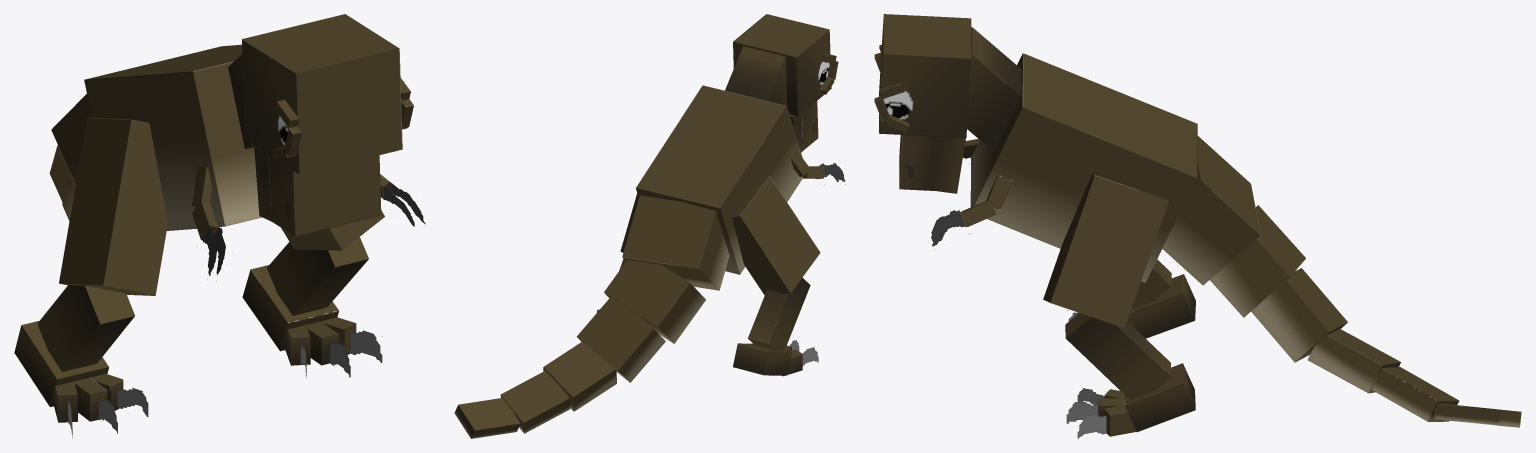
File: animateddinosaur33.obj
The picture shows the model from 3 angles, left to right: view 1: azimuth 30°, elevation 25°; view 2: azimuth 150°, elevation 25°; view 3: azimuth 270°, elevation 25°; orthographic projection. The views are drawn at different scales.
Visible parts, largest first — view 1: Object_64, Object_6, Object_9, Object_56, Object_12, Object_34, Object_37, Object_15, Object_92, Object_31, Object_79, Object_18 (+15 smaller); view 2: Object_6, Object_92, Object_9, Object_64, Object_95, Object_98, Object_101, Object_53, Object_12, Object_104, Object_107, Object_15 (+1 smaller); view 3: Object_6, Object_31, Object_64, Object_92, Object_34, Object_98, Object_95, Object_53, Object_101, Object_37, Object_15, Object_104 (+5 smaller).
Part boxes in pixels (x1,y1,x2,y2): Object_64: [242, 14, 402, 174]; Object_6: [84, 44, 262, 230]; Object_9: [59, 117, 167, 295]; Object_56: [268, 155, 381, 236]; Object_12: [37, 285, 134, 371]; Object_34: [267, 237, 368, 315]; Object_37: [242, 265, 338, 351]; Object_15: [14, 321, 108, 406]; Object_92: [51, 94, 91, 183]; Object_31: [281, 210, 384, 250]; Object_79: [254, 146, 273, 222]; Object_18: [73, 377, 107, 421]; Object_6: [636, 85, 802, 274]; Object_92: [622, 195, 729, 290]; Object_9: [732, 175, 820, 295]; Object_64: [733, 14, 831, 116]; Object_95: [604, 260, 705, 343]; Object_98: [576, 297, 665, 382]; Object_101: [543, 341, 616, 411]; Object_53: [725, 46, 787, 105]; Object_12: [748, 277, 810, 350]; Object_104: [500, 371, 570, 433]; Object_107: [454, 398, 520, 438]; Object_15: [733, 343, 791, 375]; Object_6: [970, 53, 1197, 282]; Object_31: [1043, 174, 1168, 328]; Object_64: [879, 14, 971, 137]; Object_92: [1162, 136, 1260, 285]; Object_34: [1065, 313, 1171, 399]; Object_98: [1251, 268, 1347, 362]; Object_95: [1210, 205, 1305, 317]; Object_53: [967, 27, 1021, 151]; Object_101: [1308, 329, 1400, 393]; Object_37: [1124, 363, 1195, 432]; Object_15: [1127, 274, 1195, 338]; Object_104: [1371, 367, 1459, 421].
Bounding box in the file's own units: 2.41 × 3.03 × 5.07.
